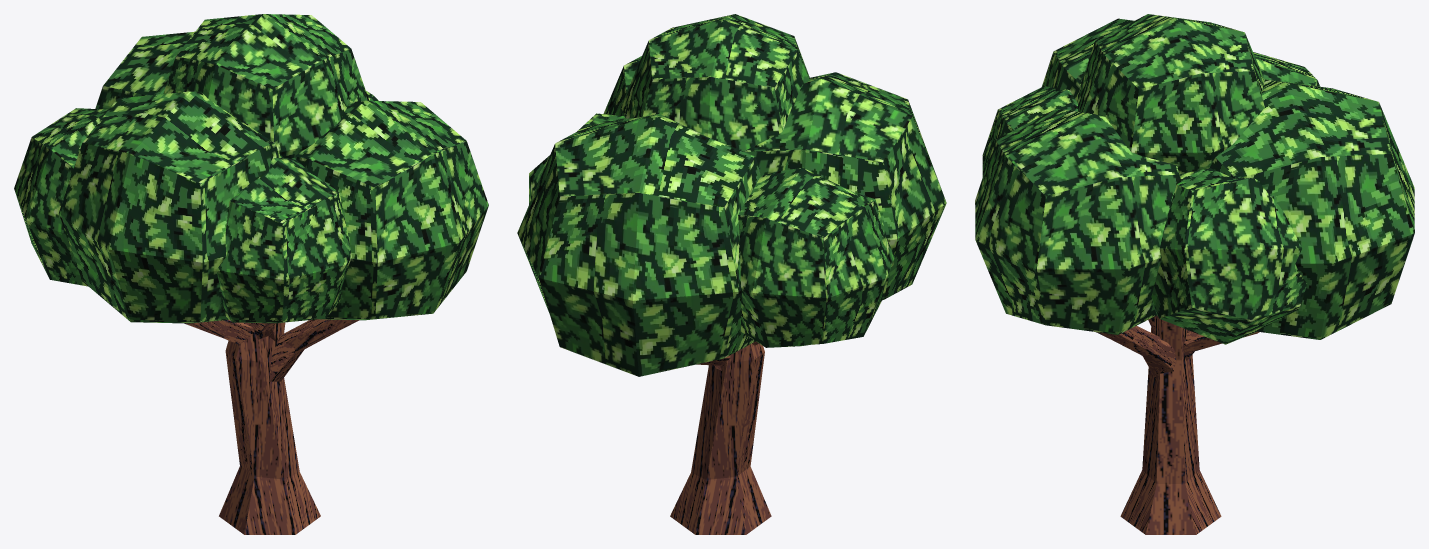
The model's file is arvore blender2 .fbx.
3 renders of one model, left to right at view 1: azimuth 30°, elevation 25°; view 2: azimuth 150°, elevation 25°; view 3: azimuth 270°, elevation 25°, orthographic.
Visible parts, largest first — view 1: Cube; view 2: Cube; view 3: Cube.
Boxes of the visible parts, box(x1,y1,x2,y2) form: Cube: box(14, 14, 488, 534); Cube: box(517, 14, 946, 534); Cube: box(975, 14, 1414, 534).
Size of the model in its own units: 830 by 1105 by 887.
3 materials, 3 textured.
